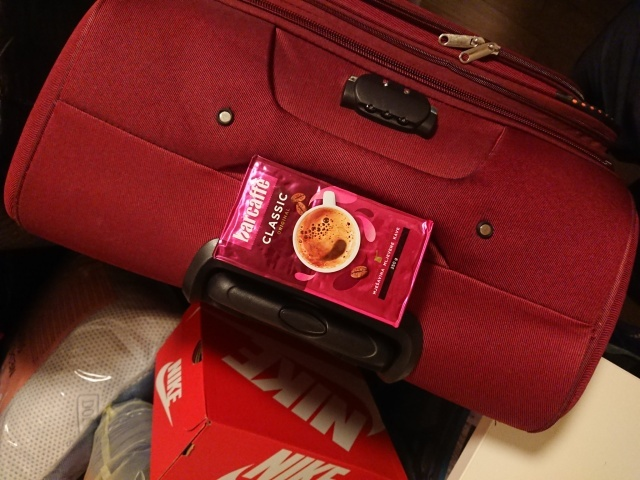Barcaffe Classic Original 225g: (205, 151, 437, 334)
